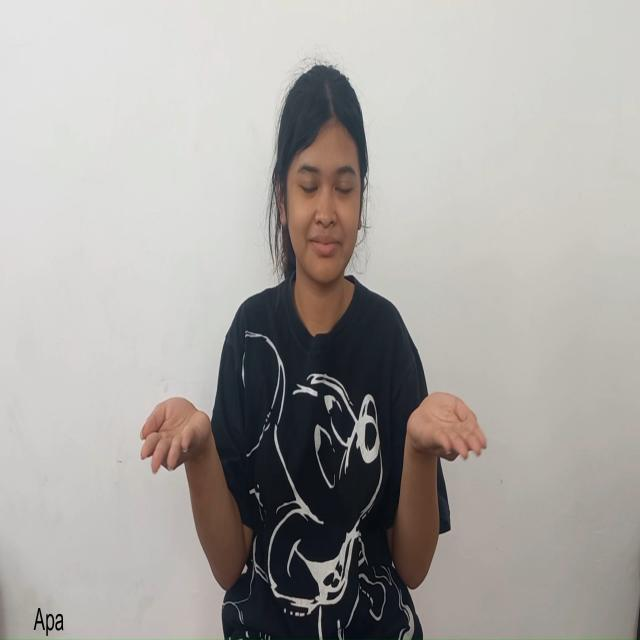Apa -BISINDO-: (134, 385, 495, 597)
